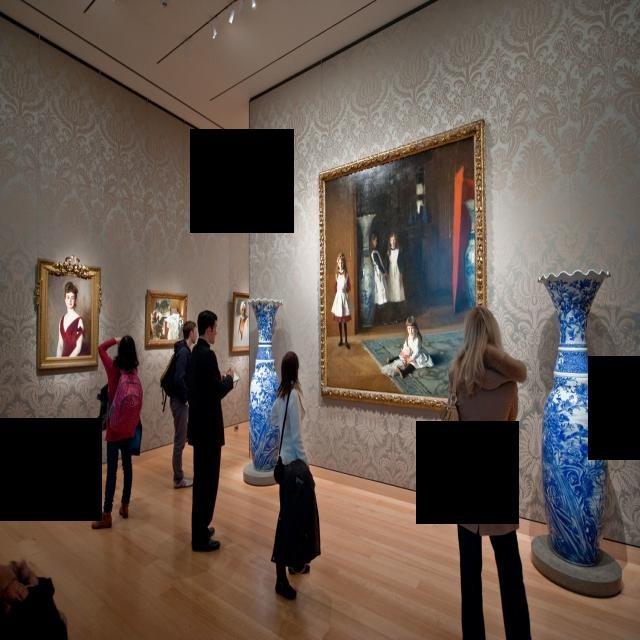Tablo: (324, 135, 477, 403), (46, 272, 93, 358), (150, 297, 184, 340), (233, 297, 249, 346)
